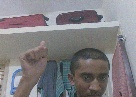hand: (17, 40, 49, 86)
